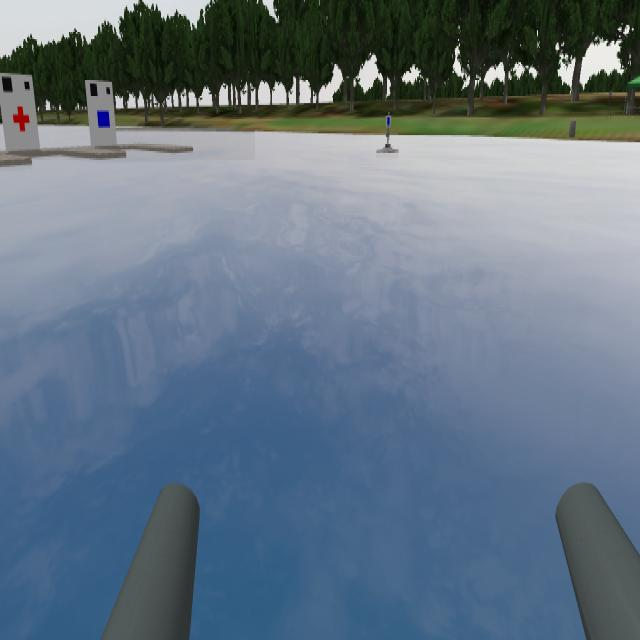blue_pole: (381, 109, 397, 132)
